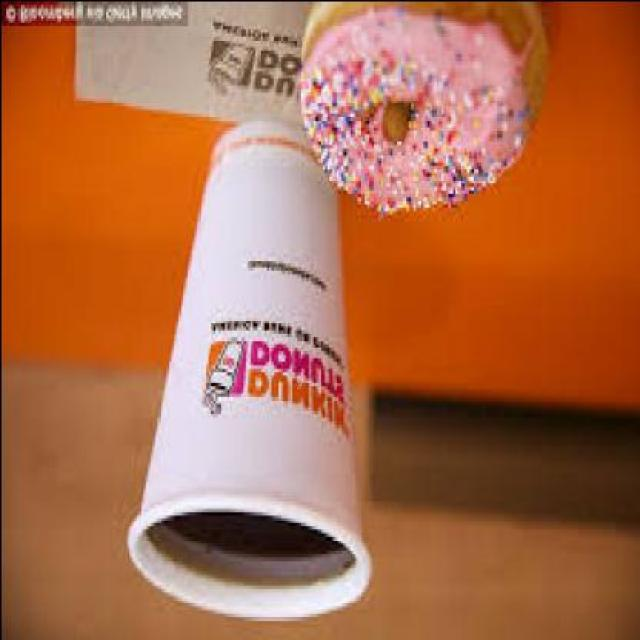BIODEGRADABLE: (293, 3, 547, 217)
PAPER: (123, 130, 366, 622), (70, 3, 305, 129)
